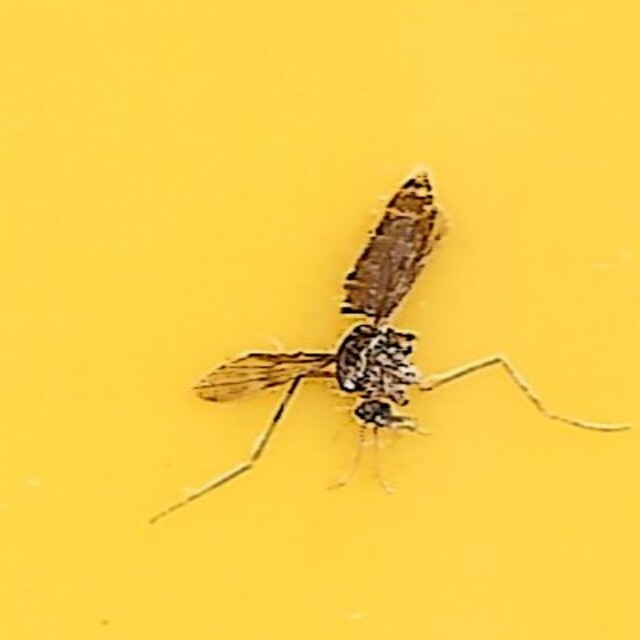Nematocera: (189, 160, 451, 480)
